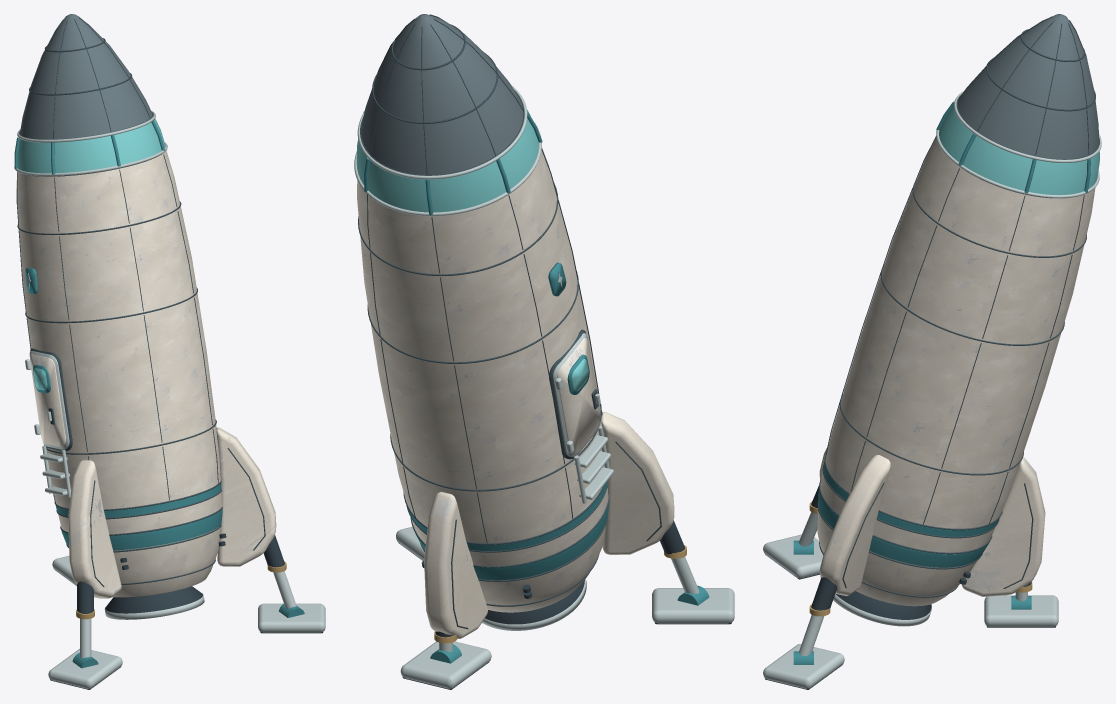
File: SM_SF_LandedSpaceship.fbx
3 renders of one model, left to right at view 1: azimuth 30°, elevation 25°; view 2: azimuth 150°, elevation 25°; view 3: azimuth 270°, elevation 25°, orthographic. The views are drawn at different scales.
Visible parts, largest first — view 1: SM_SF_LandedSpaceship; view 2: SM_SF_LandedSpaceship; view 3: SM_SF_LandedSpaceship.
Boxes of the visible parts, box(x1,y1,x2,y2) form: SM_SF_LandedSpaceship: box(14, 14, 325, 689); SM_SF_LandedSpaceship: box(354, 14, 734, 689); SM_SF_LandedSpaceship: box(763, 14, 1101, 689).
Size of the model in its own units: 7.3 by 7.07 by 13.87.
